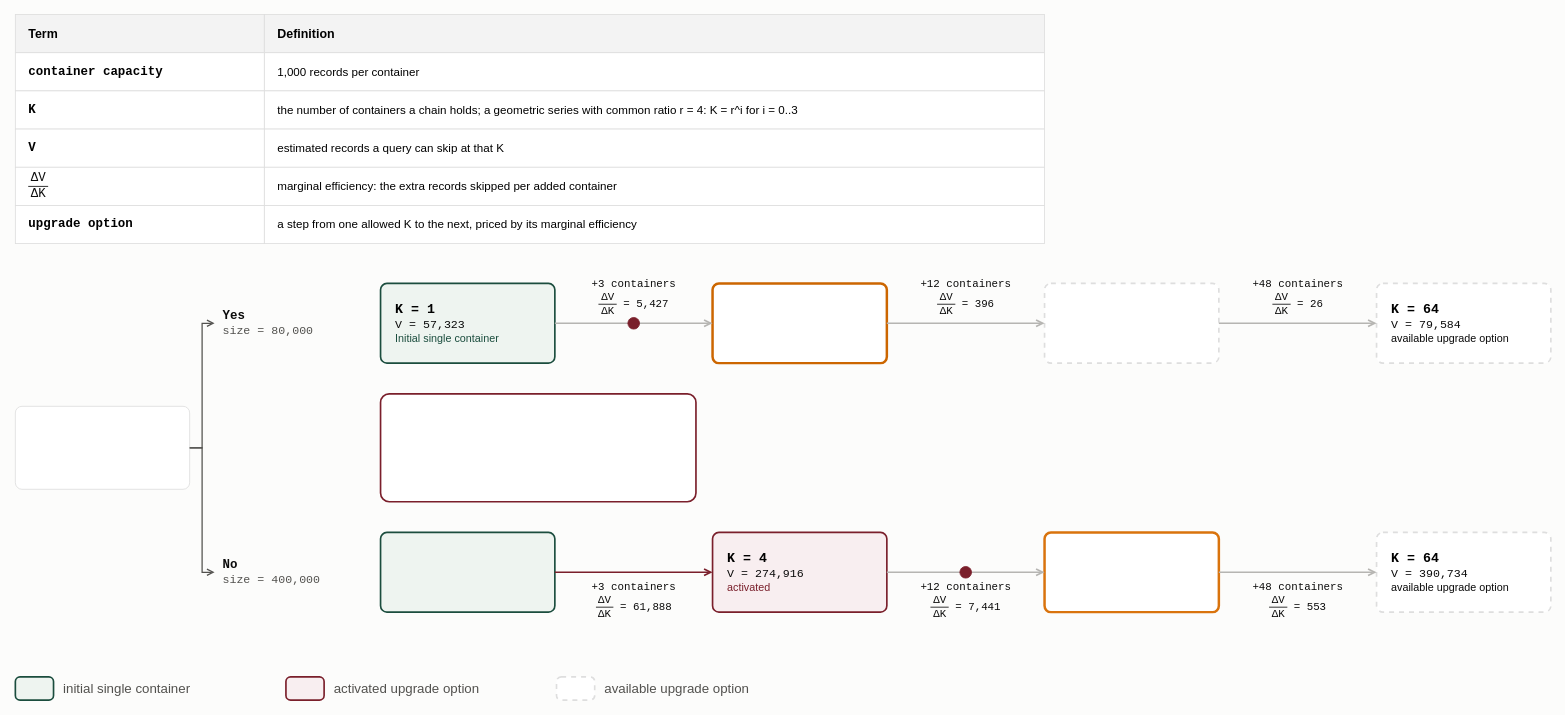
The diagram is 1565 pixels wide and 715 high, and some of its shapes have lost their labels. Each missing label, with the centre of its shape:
"K = 1 V = 89,252 Initial single container" goes at point (467, 572).
"K = 16 V = 364,204 next upgrade option" goes at point (1131, 572).
"K = 16 V = 78,351 available upgrade option" goes at point (1131, 323).
"K = 4 V = 73,604 next upgrade option" goes at point (799, 323).
"price_tier > 5 size = 480,000" goes at point (102, 447).
"the two pending steps compared No: K = 4 -> K = 16 wins ΔV ΔK 7,441 > 5,427" goes at point (537, 447).
